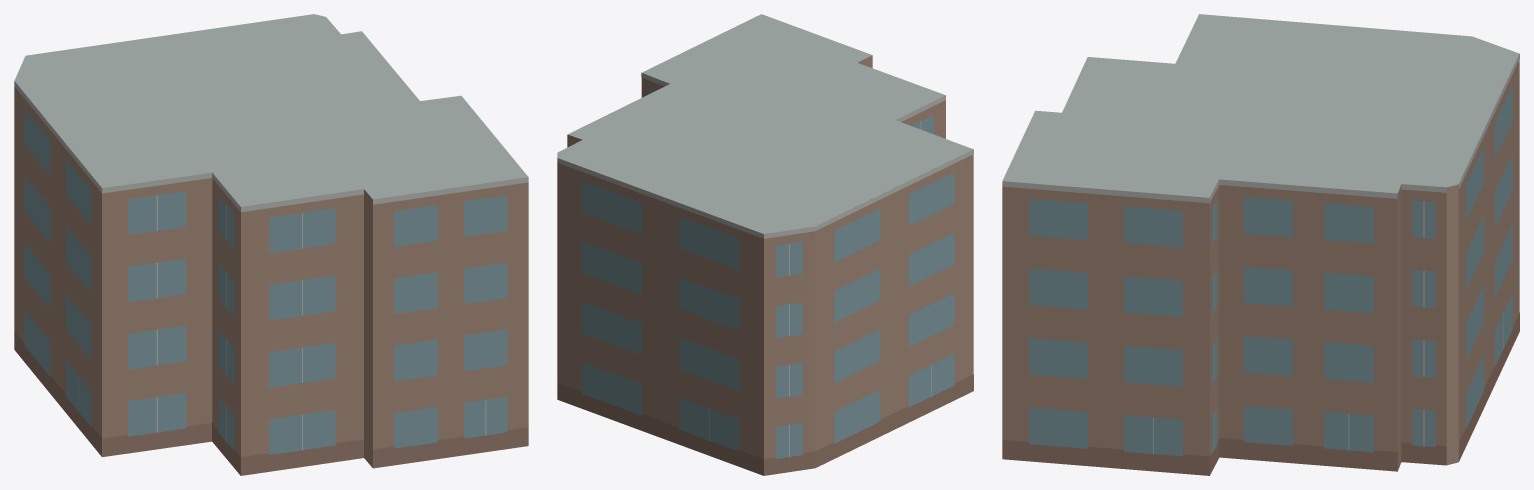
Rendered from survey-upis-32924007.glb.
3 views of the same model, side by side, from view 1: azimuth 30°, elevation 25°; view 2: azimuth 150°, elevation 25°; view 3: azimuth 270°, elevation 25° (orthographic). The views are drawn at different scales.
Parts seen in each view (by area): view 1: survey-upis-32924007.tmp; view 2: survey-upis-32924007.tmp; view 3: survey-upis-32924007.tmp.
Part boxes in pixels (left/top/right/bottom): survey-upis-32924007.tmp: left=14, top=14, right=528, bottom=475; survey-upis-32924007.tmp: left=557, top=14, right=973, bottom=475; survey-upis-32924007.tmp: left=1002, top=14, right=1519, bottom=475.
Size of the model in its own units: 17.6 by 12.4 by 20.93.
